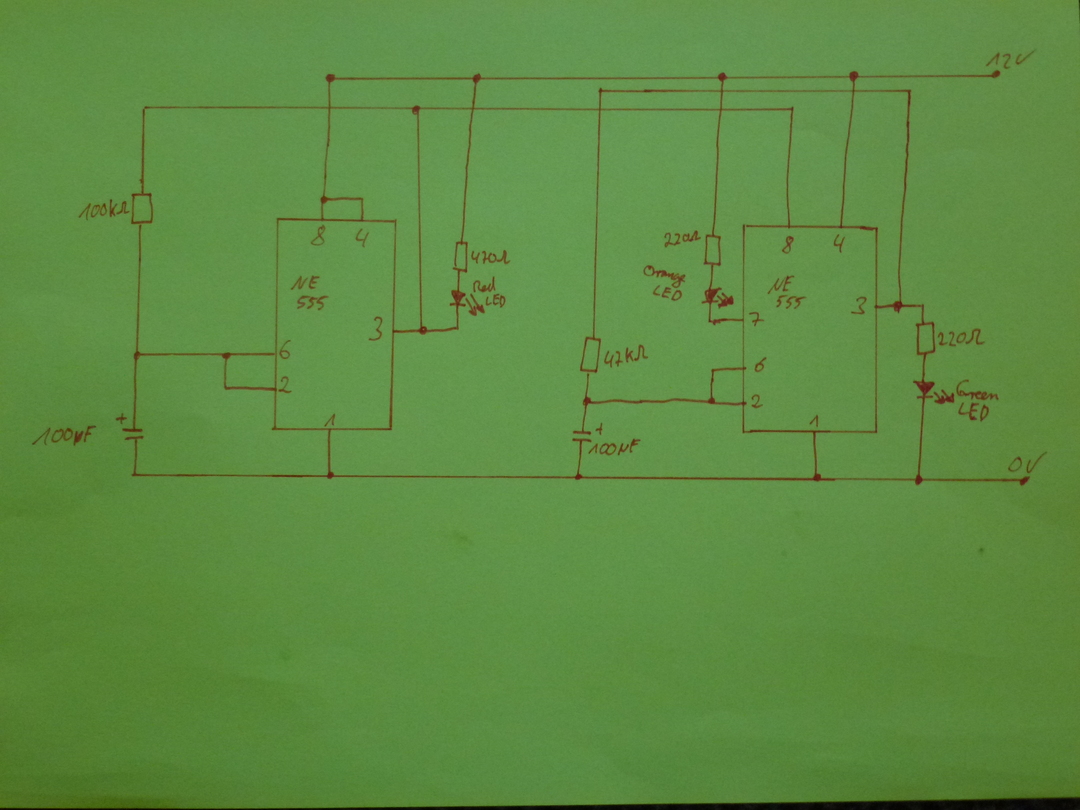capacitor.polarized: (115, 412, 146, 443), (569, 421, 603, 442)
crossover: (467, 103, 480, 113), (595, 104, 606, 115), (325, 102, 335, 113), (848, 85, 858, 96), (716, 104, 726, 115), (716, 86, 727, 95)
diode.light_emitting: (912, 379, 956, 406), (449, 288, 486, 317), (700, 286, 735, 309)
integrated_cricuit.ne555: (741, 222, 880, 435), (271, 216, 398, 432)
junction: (891, 298, 905, 314), (410, 103, 424, 116), (220, 349, 233, 362), (913, 473, 925, 487), (324, 72, 337, 84), (716, 71, 729, 83), (848, 70, 860, 83), (131, 350, 144, 362), (581, 395, 593, 407), (417, 324, 429, 336), (471, 73, 483, 85), (129, 469, 142, 480), (811, 472, 824, 483), (139, 102, 150, 114), (325, 470, 337, 481), (706, 396, 717, 407), (705, 316, 717, 326), (573, 472, 584, 482), (319, 194, 329, 205), (787, 103, 797, 114), (221, 382, 231, 393), (595, 86, 607, 95), (903, 86, 913, 95), (917, 301, 927, 310), (357, 194, 366, 203), (708, 366, 717, 375), (453, 322, 461, 331)
resistor: (578, 334, 602, 375), (130, 190, 155, 226), (914, 319, 937, 358), (702, 232, 724, 269), (451, 239, 468, 272)
terminal: (1018, 475, 1032, 488), (989, 69, 1002, 80)
text: (955, 379, 1000, 422), (642, 263, 688, 302), (31, 425, 97, 448), (289, 274, 328, 312), (766, 274, 807, 310), (77, 198, 130, 222), (603, 343, 650, 369), (472, 276, 507, 308), (985, 48, 1036, 69), (588, 437, 641, 457), (937, 327, 986, 348), (1007, 451, 1048, 474), (663, 229, 701, 248), (470, 249, 511, 265), (367, 315, 384, 342), (309, 224, 327, 247), (850, 295, 868, 317), (832, 232, 848, 253), (277, 339, 293, 359), (278, 375, 293, 395), (780, 234, 795, 254), (355, 227, 369, 248), (748, 310, 765, 327), (752, 356, 768, 373), (750, 393, 764, 410), (323, 412, 337, 427), (808, 413, 820, 429)
